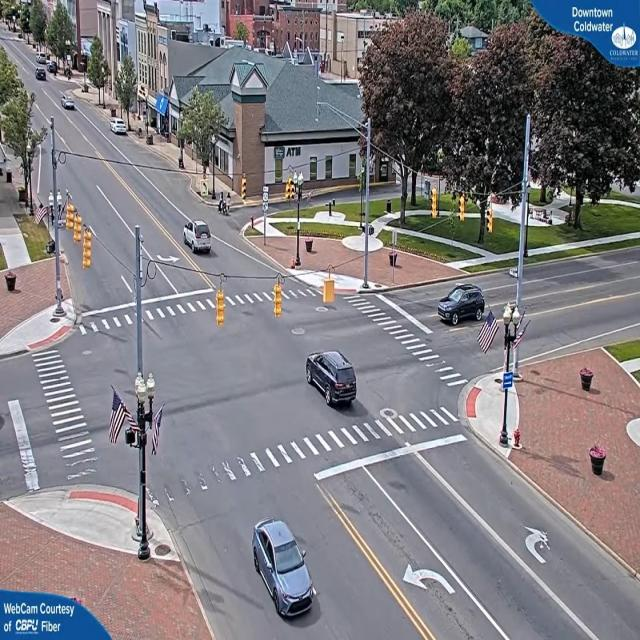car: (251, 518, 318, 621), (307, 352, 359, 408), (438, 283, 488, 327), (182, 221, 215, 255), (111, 120, 129, 136), (62, 98, 76, 111), (35, 67, 47, 80)
